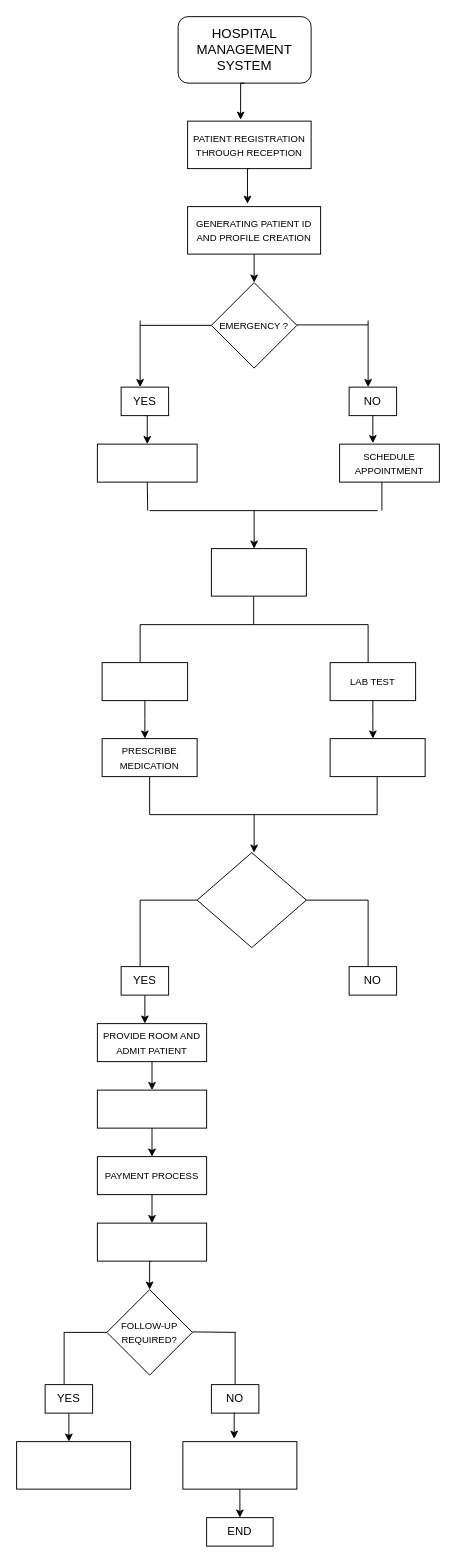
Some shapes in this 456 by 1563 pixel diagram are drawn without their labels. The shapes that lost their labels are listed below. From the top down, each one's box as (x1, y1, x2, y2) in pixels, then its label:
(96, 443, 197, 482): IMMEDIATE DOCTOR VISIT
(210, 548, 306, 596): DOCTOR CONSULTATION
(101, 662, 188, 701): MEDICAL RECORD
(329, 738, 425, 777): RECEIVE TEST RESULTS
(196, 852, 306, 948): HOSPITILIZATION NEEDED?
(96, 1089, 207, 1128): GENERATE BILL AND INVOICE
(96, 1222, 207, 1261): UPDATING DATABASE RECORDS
(16, 1441, 131, 1489): SCHEDULE FOLLOW-UP APPOINTMENT
(182, 1441, 297, 1489): PATIENT DISCHARGED
